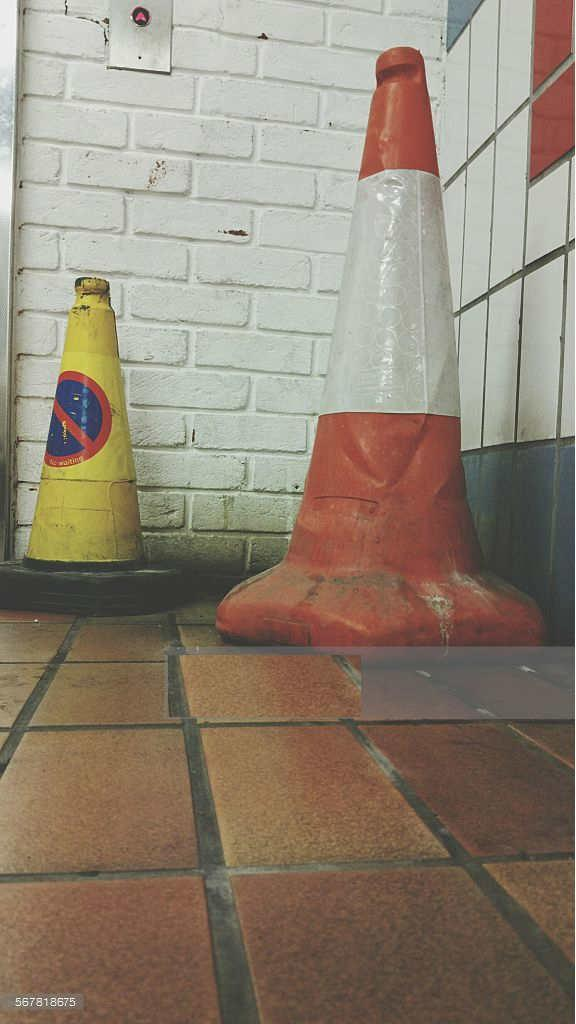Cone: (196, 46, 557, 664)
